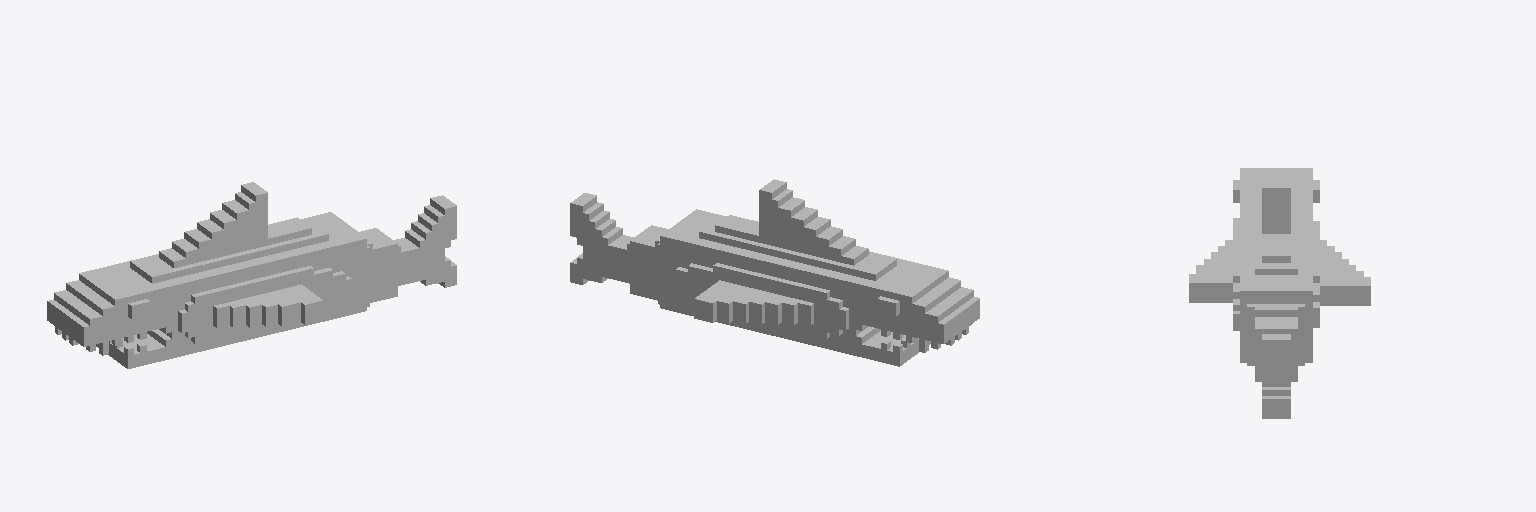
The model's file is hai.obj.
The picture shows the model from 3 angles: view 1: azimuth 30°, elevation 25°; view 2: azimuth 150°, elevation 25°; view 3: azimuth 270°, elevation 25°; orthographic projection.
Bounding box in the file's own units: 61 × 21 × 25.